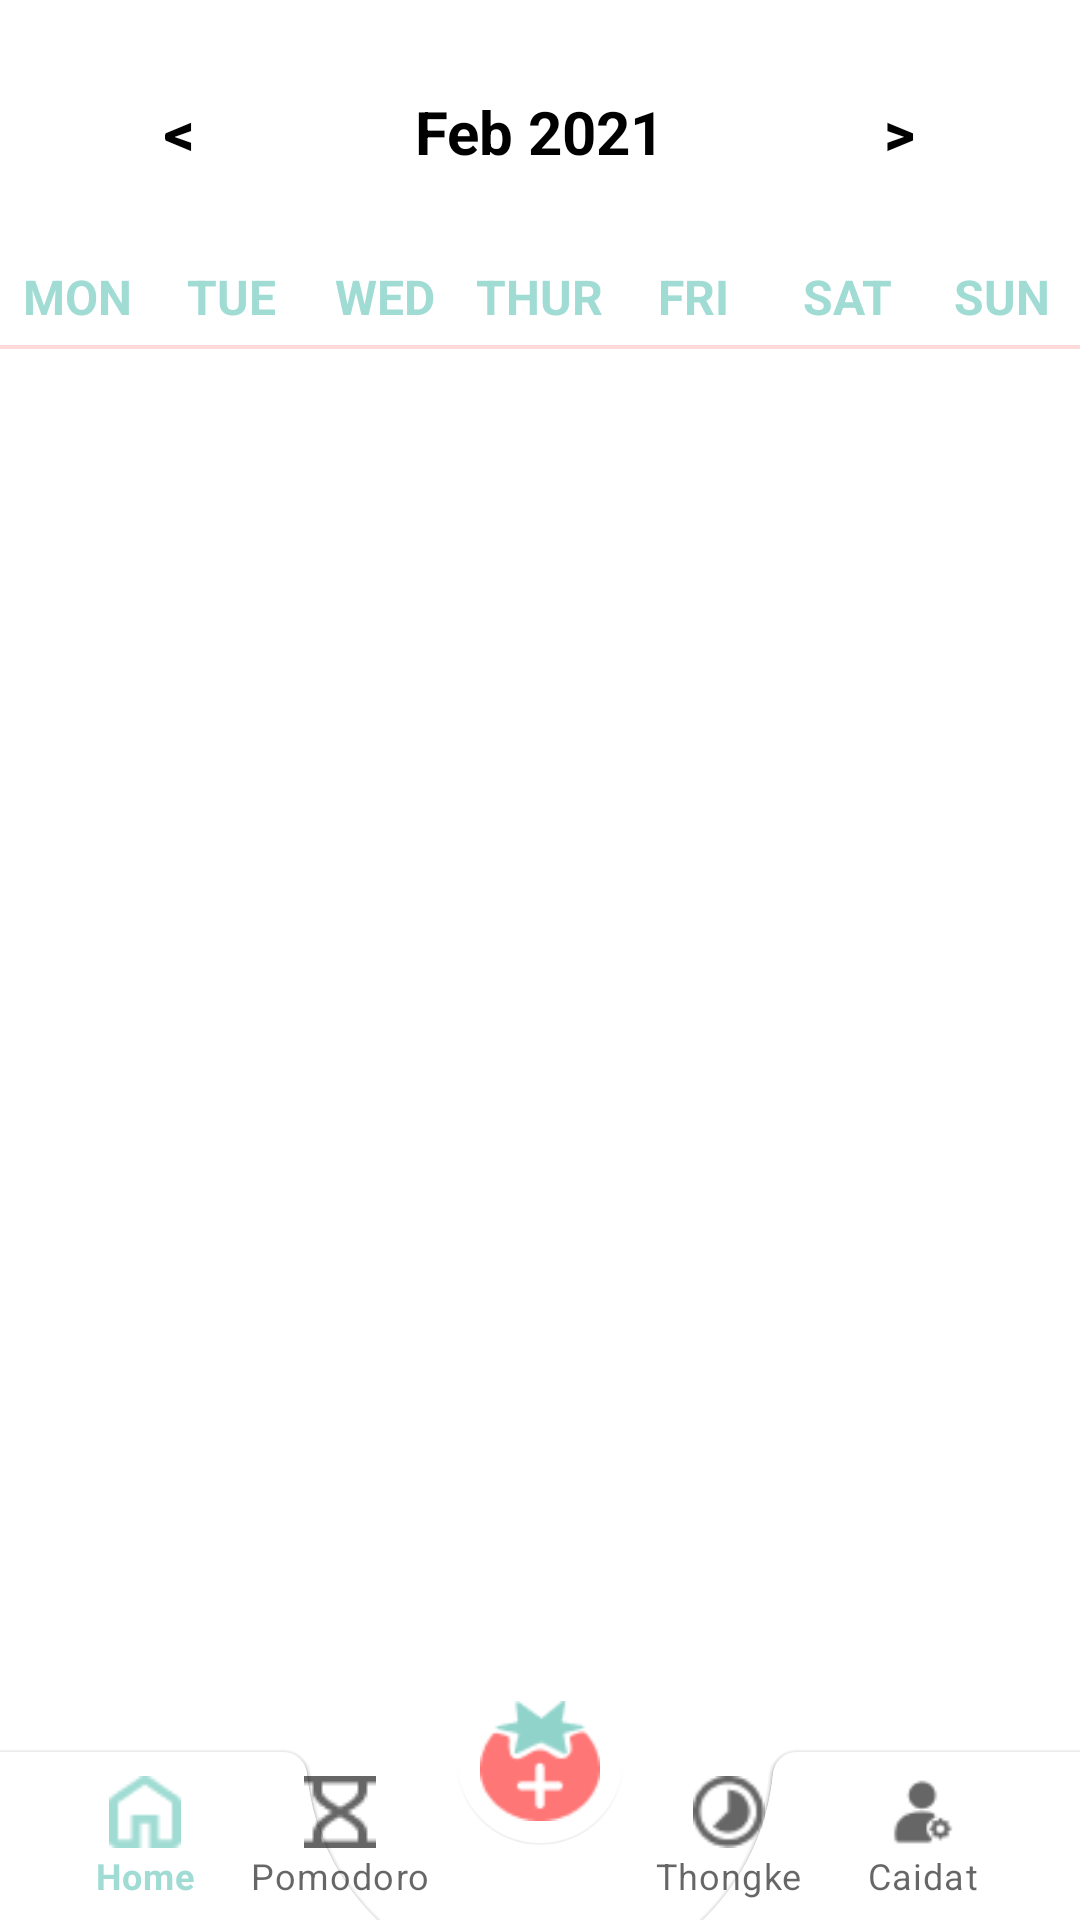

Where icons sit on this 1080 × 1920 app screen, as (left=x1, top=y1, right=x2, bottom=y2):
cachua: (left=480, top=1701, right=600, bottom=1821)
